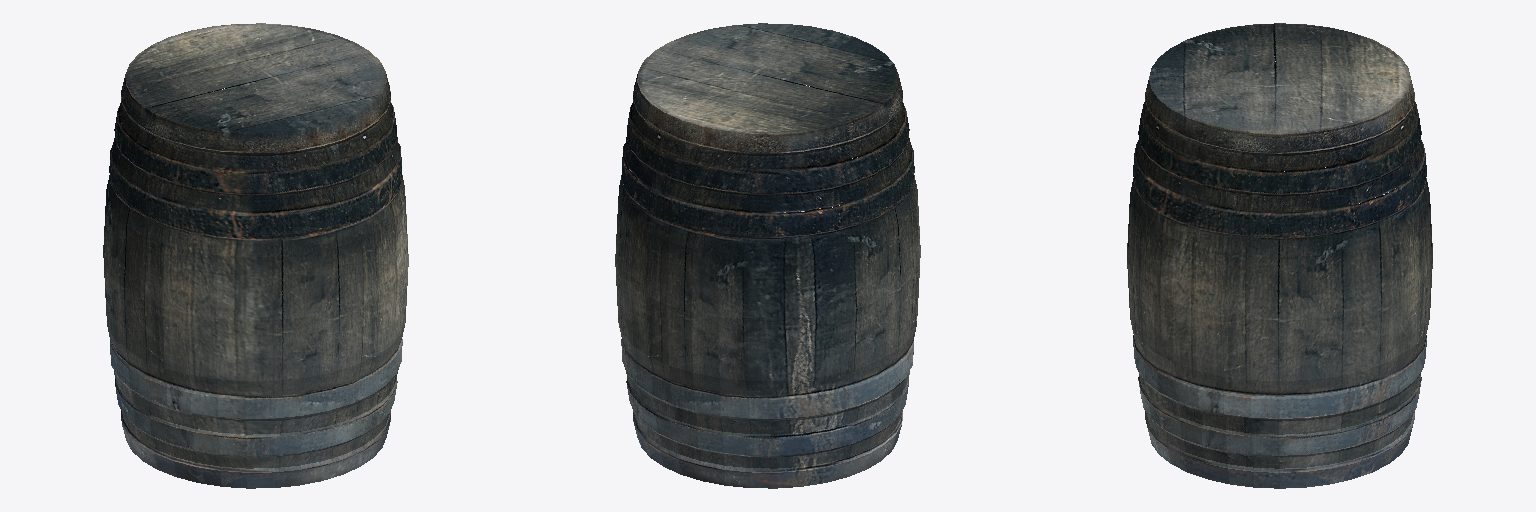
The picture shows the model from 3 angles: view 1: azimuth 30°, elevation 25°; view 2: azimuth 150°, elevation 25°; view 3: azimuth 270°, elevation 25°; orthographic projection.
Visible parts, largest first — view 1: default; view 2: default; view 3: default.
Part boxes in pixels (x1,y1,x2,y2): default: (103, 23, 408, 488); default: (615, 23, 920, 488); default: (1127, 23, 1432, 488).
Size of the model in its own units: 2.62 by 3.35 by 2.62.
1 materials, 1 textured.